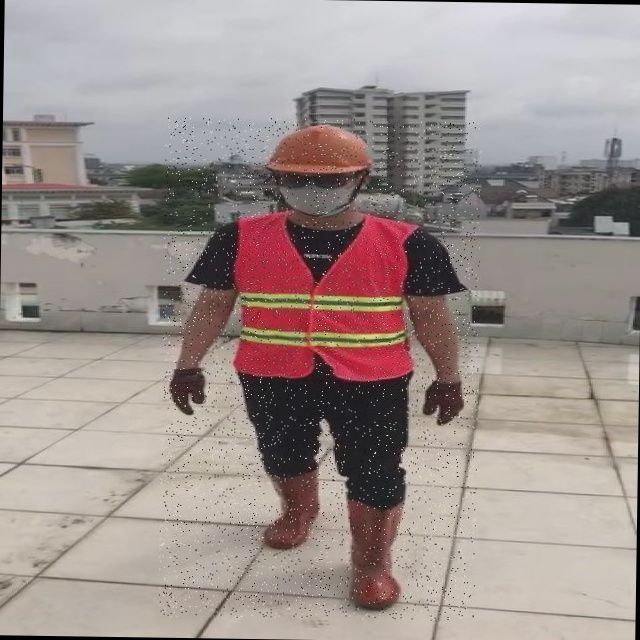boots: (227, 498, 297, 607), (314, 467, 378, 549)
gloves: (371, 350, 532, 437), (161, 375, 265, 459)
helmet: (258, 119, 387, 176)
vest: (231, 216, 404, 380)
